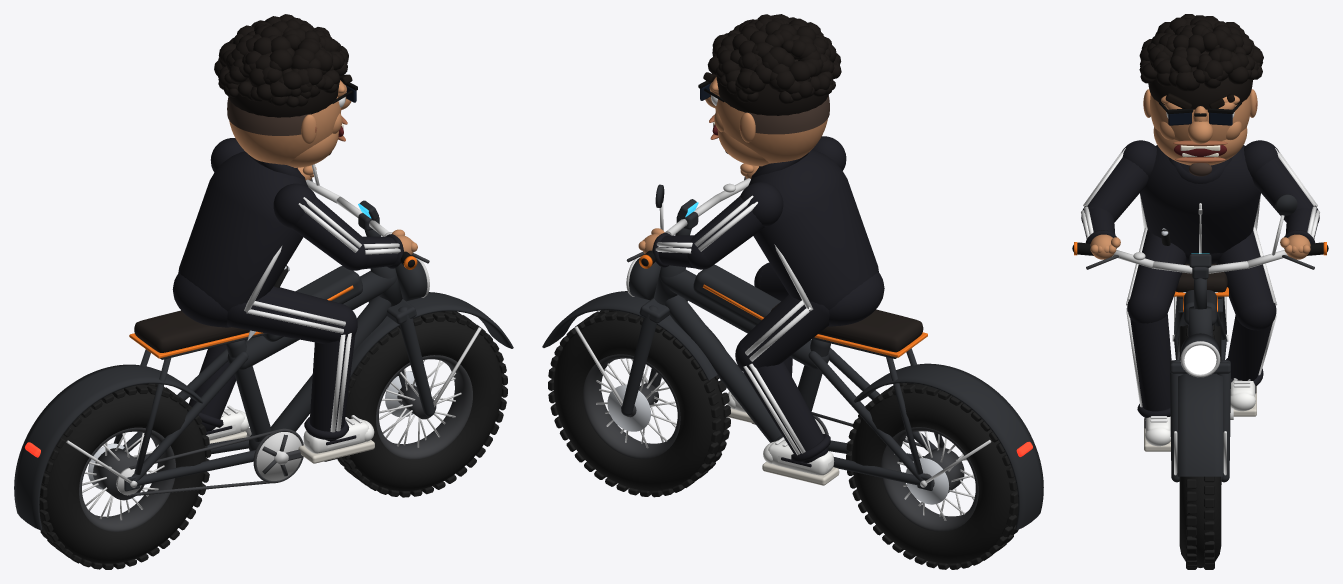
The model's file is fatbiker.glb.
3 views of the same model, side by side, from view 1: azimuth 30°, elevation 25°; view 2: azimuth 150°, elevation 25°; view 3: azimuth 270°, elevation 25° (orthographic). The views are drawn at different scales.
Parts seen in each view (by area): view 1: Bike_Frame, Bike_WheelRear, Bike_WheelFront, Rider_Torso, Rider_Hair, Rider_LegR, Rider_ArmR, Rider_Head, Rider_LegL, Bike_Crank, Bike_Handlebar, Rider_ArmL; view 2: Bike_Frame, Bike_WheelFront, Bike_WheelRear, Rider_Torso, Rider_Hair, Rider_LegL, Rider_ArmL, Rider_Head, Bike_Handlebar, Rider_LegR, Rider_ArmR; view 3: Bike_Frame, Rider_Torso, Rider_Hair, Rider_LegR, Rider_LegL, Rider_Head, Rider_ArmR, Rider_ArmL, Bike_WheelFront, Bike_Handlebar, Rider_Sunglasses, Bike_WheelRear.
Part boxes in pixels (x1=…): Bike_Frame: x1=14, y1=258, x2=513, y2=530; Bike_WheelRear: x1=39, y1=383, x2=210, y2=569; Bike_WheelFront: x1=337, y1=311, x2=507, y2=497; Rider_Torso: x1=172, y1=151, x2=308, y2=327; Rider_Hair: x1=214, y1=14, x2=348, y2=135; Rider_LegR: x1=227, y1=286, x2=374, y2=463; Rider_ArmR: x1=273, y1=183, x2=417, y2=270; Rider_Head: x1=229, y1=74, x2=352, y2=167; Rider_LegL: x1=188, y1=339, x2=249, y2=443; Bike_Crank: x1=245, y1=428, x2=348, y2=483; Bike_Handlebar: x1=306, y1=164, x2=429, y2=269; Rider_ArmL: x1=210, y1=138, x2=316, y2=180; Bike_Frame: x1=542, y1=257, x2=1043, y2=529; Bike_WheelFront: x1=548, y1=310, x2=730, y2=497; Bike_WheelRear: x1=846, y1=383, x2=1018, y2=569; Rider_Torso: x1=748, y1=149, x2=884, y2=326; Rider_Hair: x1=707, y1=14, x2=841, y2=134; Rider_LegL: x1=735, y1=294, x2=839, y2=485; Rider_ArmL: x1=638, y1=182, x2=783, y2=269; Rider_Head: x1=703, y1=72, x2=827, y2=166; Bike_Handlebar: x1=626, y1=176, x2=750, y2=268; Rider_LegR: x1=727, y1=262, x2=792, y2=423; Rider_ArmR: x1=740, y1=136, x2=846, y2=178; Bike_Frame: x1=1170, y1=263, x2=1230, y2=482; Rider_Torso: x1=1140, y1=145, x2=1260, y2=263; Rider_Hair: x1=1139, y1=14, x2=1263, y2=109; Rider_LegR: x1=1126, y1=227, x2=1186, y2=451; Rider_LegL: x1=1216, y1=227, x2=1277, y2=416; Rider_Head: x1=1143, y1=89, x2=1257, y2=176; Rider_ArmR: x1=1081, y1=140, x2=1156, y2=259; Rider_ArmL: x1=1244, y1=140, x2=1319, y2=259; Bike_WheelFront: x1=1179, y1=476, x2=1221, y2=569; Bike_Handlebar: x1=1072, y1=194, x2=1328, y2=309; Rider_Sunglasses: x1=1159, y1=102, x2=1241, y2=125; Bike_WheelRear: x1=1172, y1=312, x2=1228, y2=360.
Size of the model in its own units: 1.91 by 1.9 by 0.9236.
